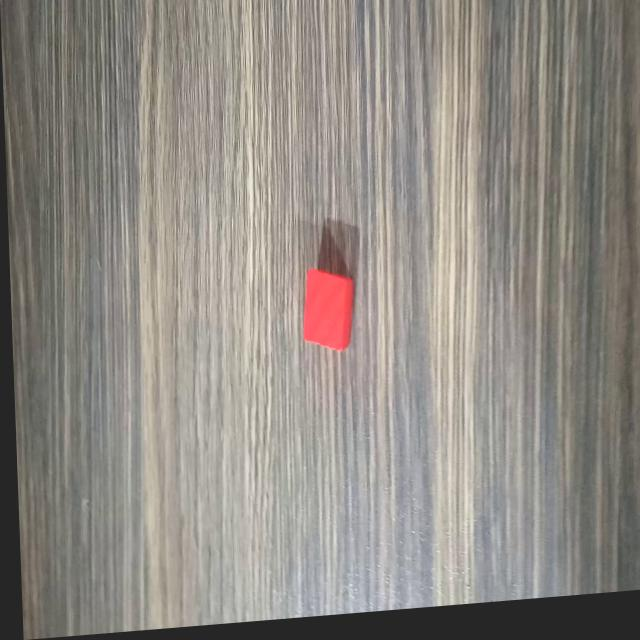cube: (294, 267, 355, 363)
